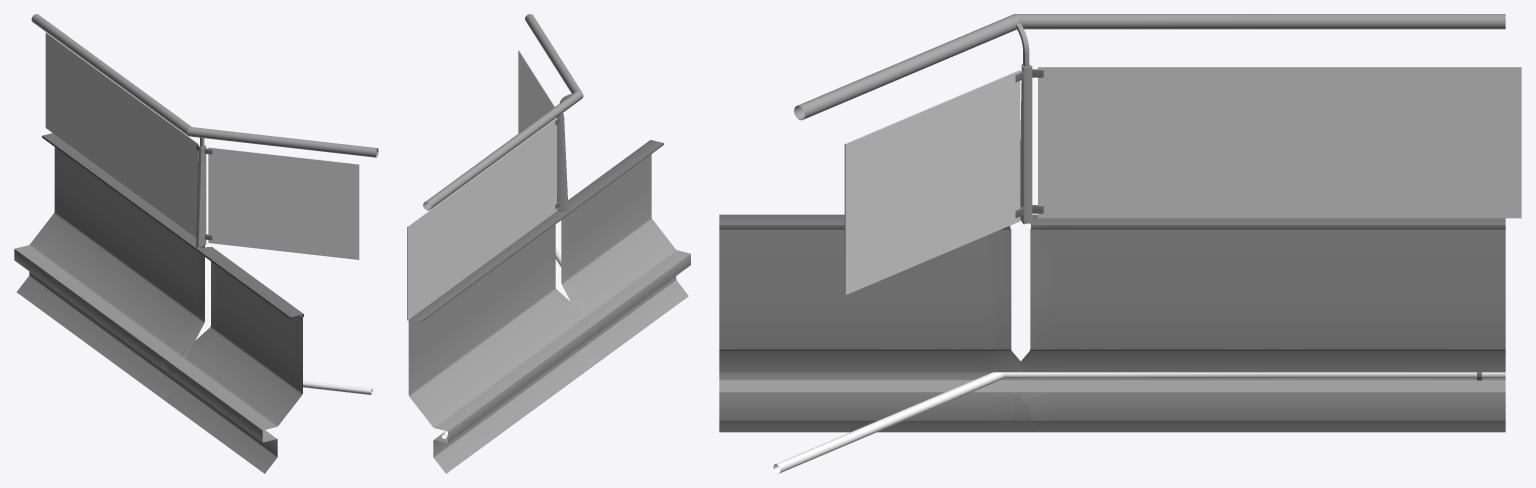
Rendered from SM_BalconyLeftTop.fbx.
3 views of the same model, side by side, from view 1: azimuth 30°, elevation 25°; view 2: azimuth 150°, elevation 25°; view 3: azimuth 270°, elevation 25° (orthographic). The views are drawn at different scales.
Parts seen in each view (by area): view 1: Glass_LeftTopCorner, Balcony_LeftTopCorner, Balcony_LeftTopCorner2, Railing_LeftTopCorner, RailingSupport_LeftTopCorner, EnergyTube_leftTopCorner; view 2: Balcony_LeftTopCorner, Balcony_LeftTopCorner2, Glass_LeftTopCorner, Railing_LeftTopCorner, RailingSupport_LeftTopCorner; view 3: Balcony_LeftTopCorner, Glass_LeftTopCorner, Balcony_LeftTopCorner2, Railing_LeftTopCorner, EnergyTube_leftTopCorner, RailingSupport_LeftTopCorner.
Part boxes in pixels (x1,y1,x2,y2): Glass_LeftTopCorner: [45, 32, 359, 259]; Balcony_LeftTopCorner: [14, 133, 204, 400]; Balcony_LeftTopCorner2: [161, 247, 303, 473]; Railing_LeftTopCorner: [31, 14, 378, 157]; RailingSupport_LeftTopCorner: [196, 137, 212, 247]; EnergyTube_leftTopCorner: [303, 381, 372, 395]; Balcony_LeftTopCorner: [408, 210, 604, 473]; Balcony_LeftTopCorner2: [561, 140, 690, 367]; Glass_LeftTopCorner: [407, 50, 557, 320]; Railing_LeftTopCorner: [423, 14, 583, 210]; RailingSupport_LeftTopCorner: [555, 93, 572, 211]; Balcony_LeftTopCorner: [1000, 214, 1505, 432]; Glass_LeftTopCorner: [844, 67, 1521, 294]; Balcony_LeftTopCorner2: [719, 214, 1041, 432]; Railing_LeftTopCorner: [794, 14, 1505, 120]; EnergyTube_leftTopCorner: [773, 372, 1505, 473]; RailingSupport_LeftTopCorner: [1015, 23, 1043, 224].
Size of the model in its own units: 161 by 295 by 496.
